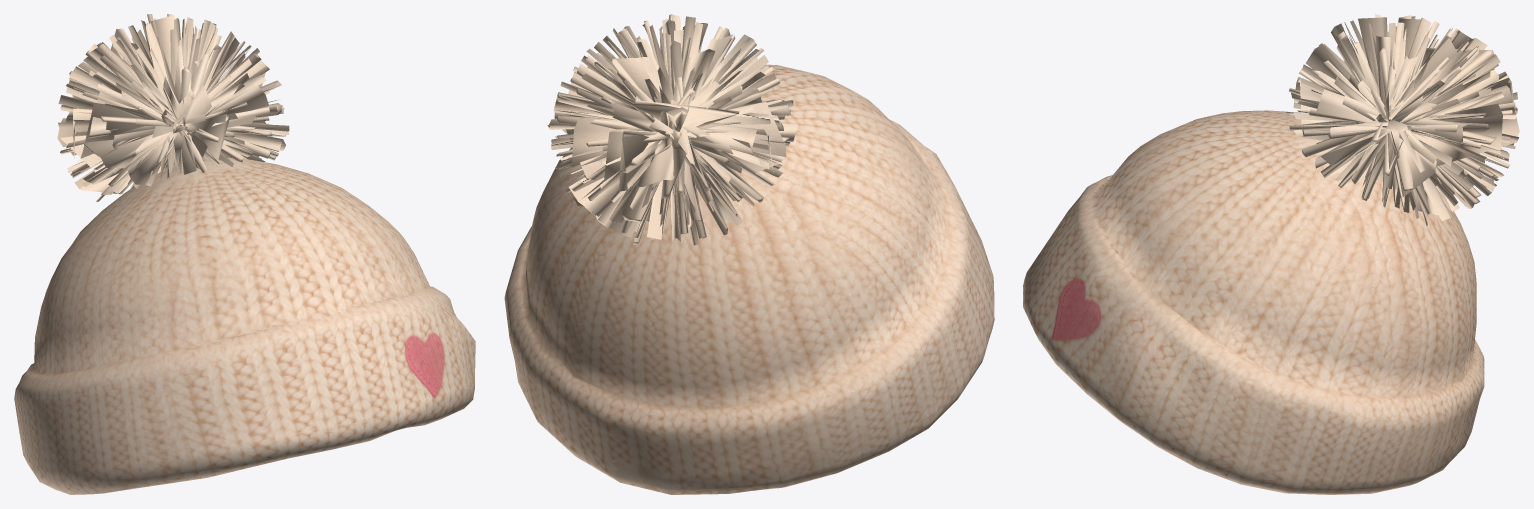
Rendered from beanie_cloud_meshy.glb.
3 views of the same model, side by side, from view 1: azimuth 30°, elevation 25°; view 2: azimuth 150°, elevation 25°; view 3: azimuth 270°, elevation 25° (orthographic). The views are drawn at different scales.
Bounding box in the file's own units: 0.8569 × 0.8613 × 0.9224.
Materials: 1 (1 with a texture image).
